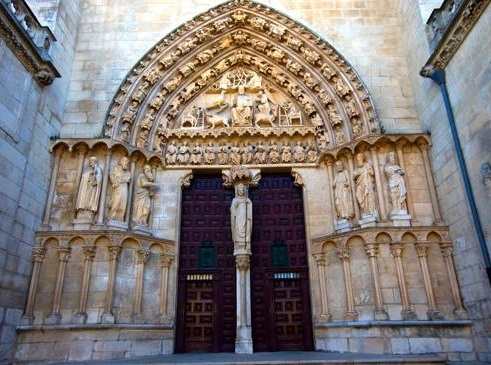arco-apuntado: (99, 1, 384, 133)
